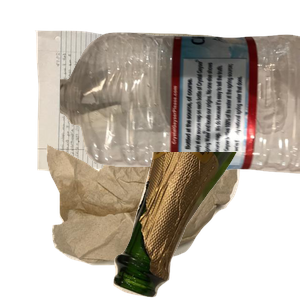glass: (111, 152, 300, 300)
paper: (32, 28, 249, 196)
plastic: (60, 30, 300, 196)
trash: (44, 136, 277, 300)
